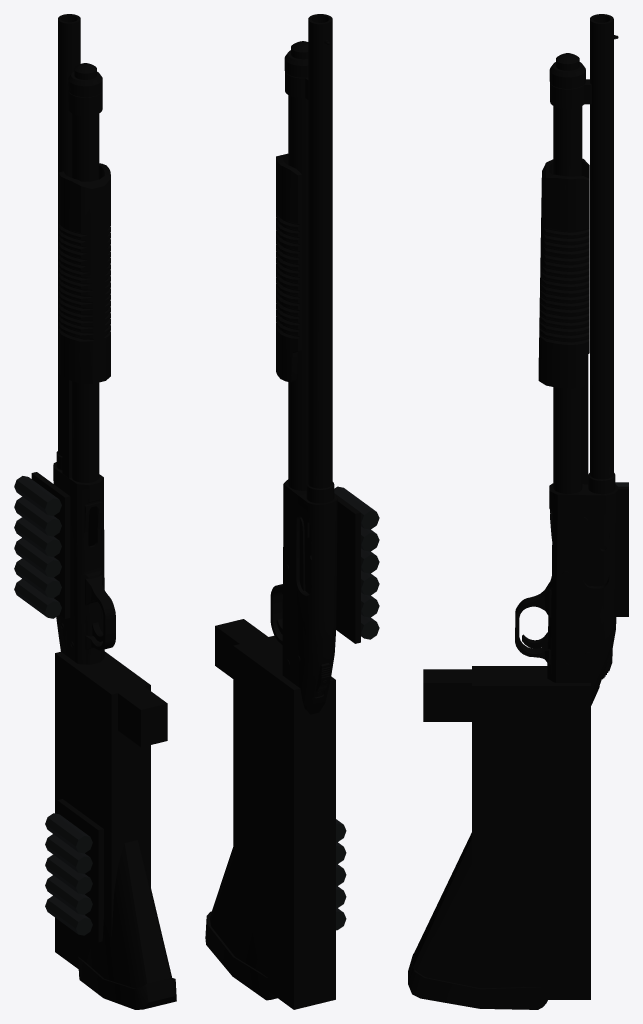
File: M590__ShellHolder_Butt__Sidesaddle_Shotgun__Stock_M590_PistolGrip.fbx
The picture shows the model from 3 angles, left to right: view 1: azimuth 30°, elevation 25°; view 2: azimuth 210°, elevation 25°; view 3: azimuth 270°, elevation 25°; orthographic projection. The views are drawn at different scales.
Parts seen in each view (by area): view 1: asset_M590.001; view 2: asset_M590.001; view 3: asset_M590.001.
Boxes of the visible parts, x1=… form: asset_M590.001: x1=14, y1=14, x2=176, y2=1009; asset_M590.001: x1=205, y1=14, x2=379, y2=1009; asset_M590.001: x1=408, y1=14, x2=628, y2=1009.
Size of the model in its own units: 0.0447 by 0.6 by 0.1224.
